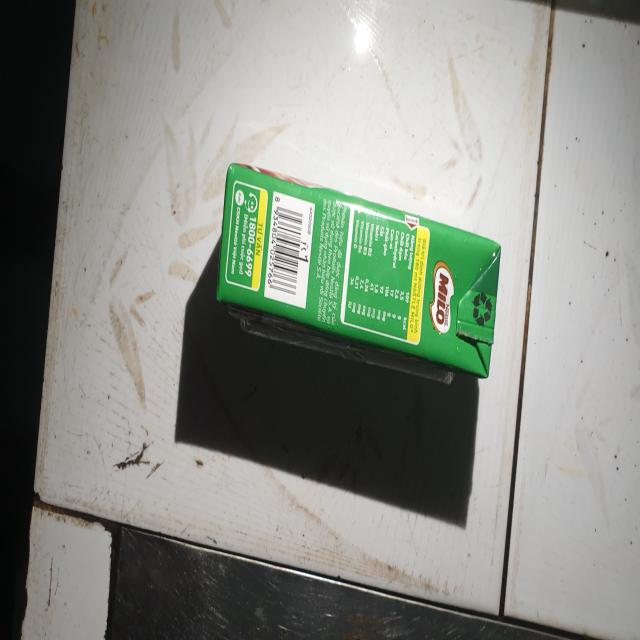Milo: (213, 158, 504, 394)
